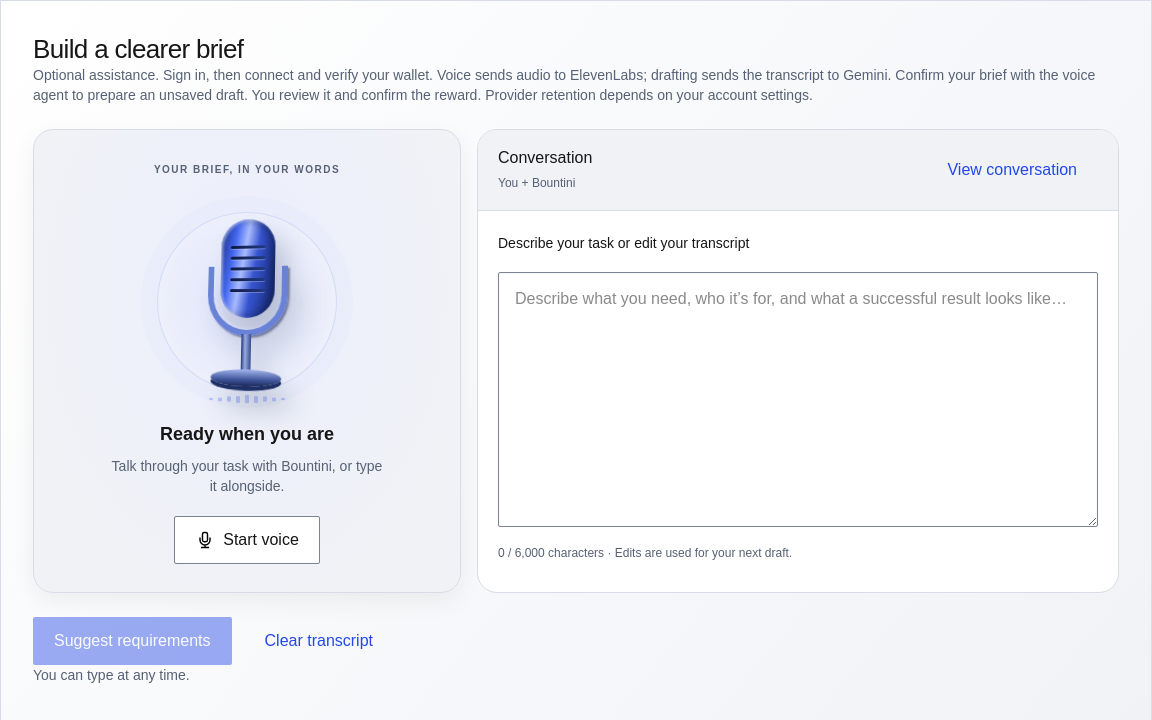
Test: fills an empty form automatically, preserving reward and the final answer, once per session
The image size is (1152, 720).
Click the button "Start voice": (247,540) [174,516,320,564]
Wait 1 ms
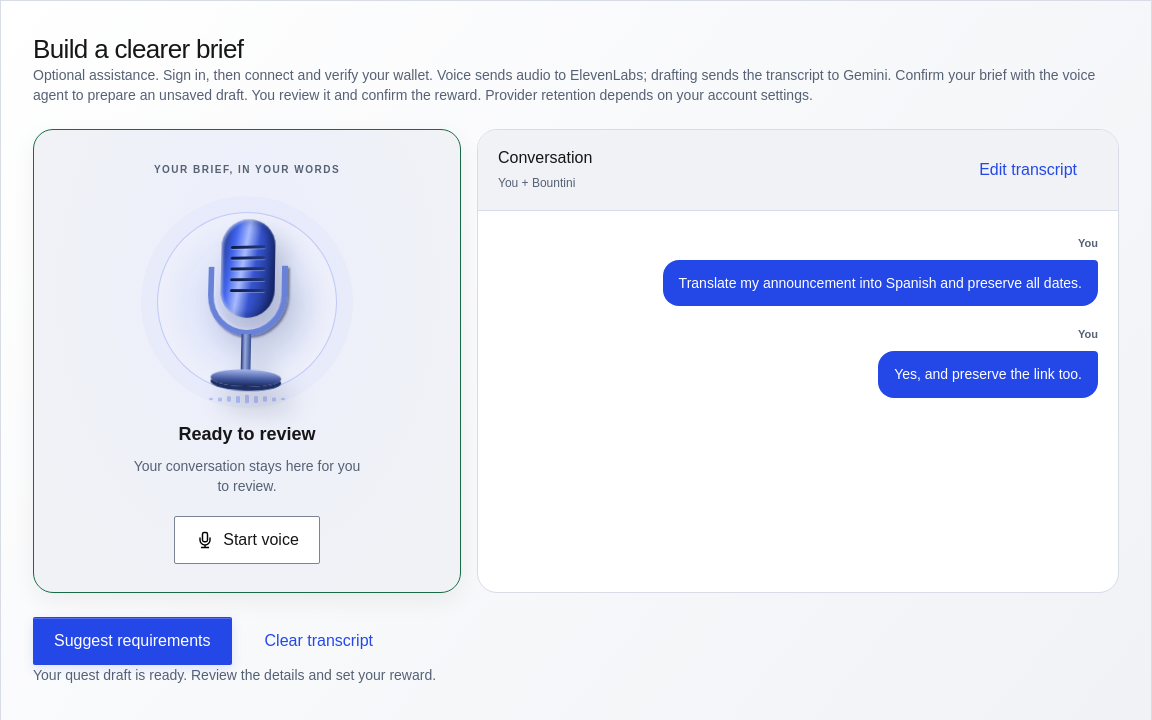
Expected: the text "Your quest draft is ready. Review the details and set your reward." is shown, [33,667,436,683]
